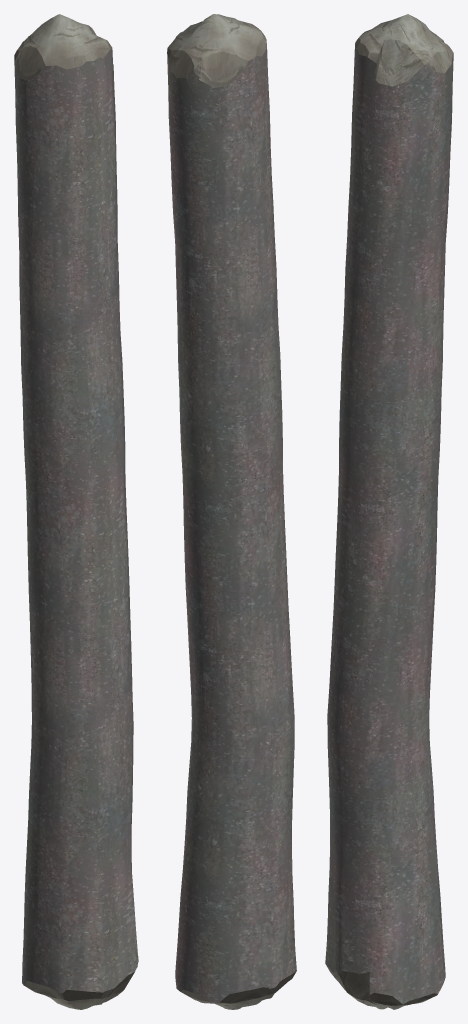
3 views of the same model, side by side, from view 1: azimuth 90°, elevation 25°; view 2: azimuth 150°, elevation 25°; view 3: azimuth 330°, elevation 25° (orthographic).
Visible parts, largest first — view 1: SM_GF_Ash_Tree_02_half_bottom_LOD0; view 2: SM_GF_Ash_Tree_02_half_bottom_LOD0; view 3: SM_GF_Ash_Tree_02_half_bottom_LOD0.
Boxes of the visible parts, <box> form: SM_GF_Ash_Tree_02_half_bottom_LOD0: <box>14,14,138,1009</box>; SM_GF_Ash_Tree_02_half_bottom_LOD0: <box>167,14,296,1009</box>; SM_GF_Ash_Tree_02_half_bottom_LOD0: <box>325,14,453,1009</box>.
Size of the model in its own units: 0.4642 by 4.24 by 0.4836.
1 material, 1 textured.
